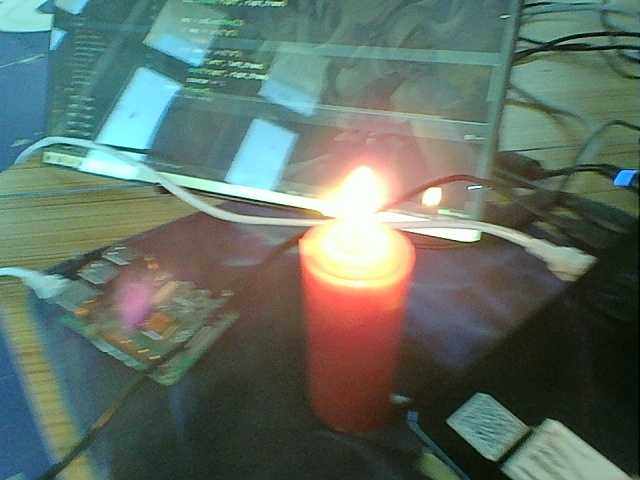candle: (279, 271, 401, 437)
fire: (312, 164, 400, 268)
